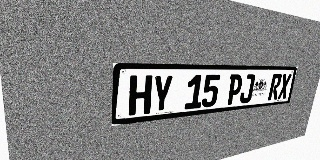1: (184, 75, 205, 110)
5: (201, 74, 220, 108)
H: (128, 75, 153, 116)
J: (239, 74, 256, 104)
P: (226, 74, 243, 105)
R: (268, 74, 282, 100)
X: (277, 74, 292, 99)
Y: (151, 75, 174, 113)
